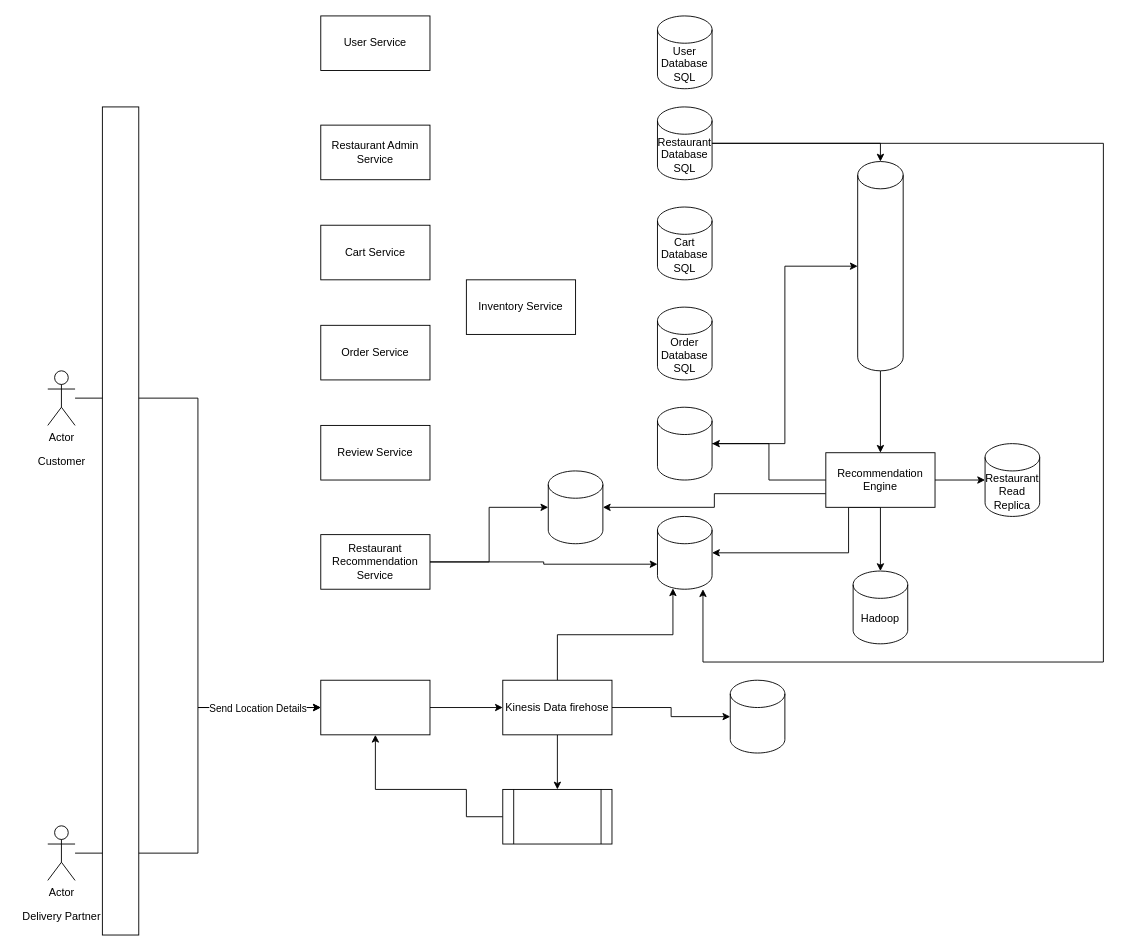
The diagram is 1127 pixels wide and 951 high, and some of its shapes have lost their labels. Each missing label, with the box of its shape:
API Gateway: (101, 106, 139, 935)
Cache: (502, 789, 612, 844)
Delivery Service: (320, 679, 430, 735)
Google S2/ Quad Tree: (657, 516, 712, 589)
Queue: (857, 161, 903, 371)
Recommendation DB: (547, 470, 603, 544)
Review Database NoSQL: (657, 406, 712, 480)
Time Series Database OpenTSDB: (729, 679, 785, 753)
